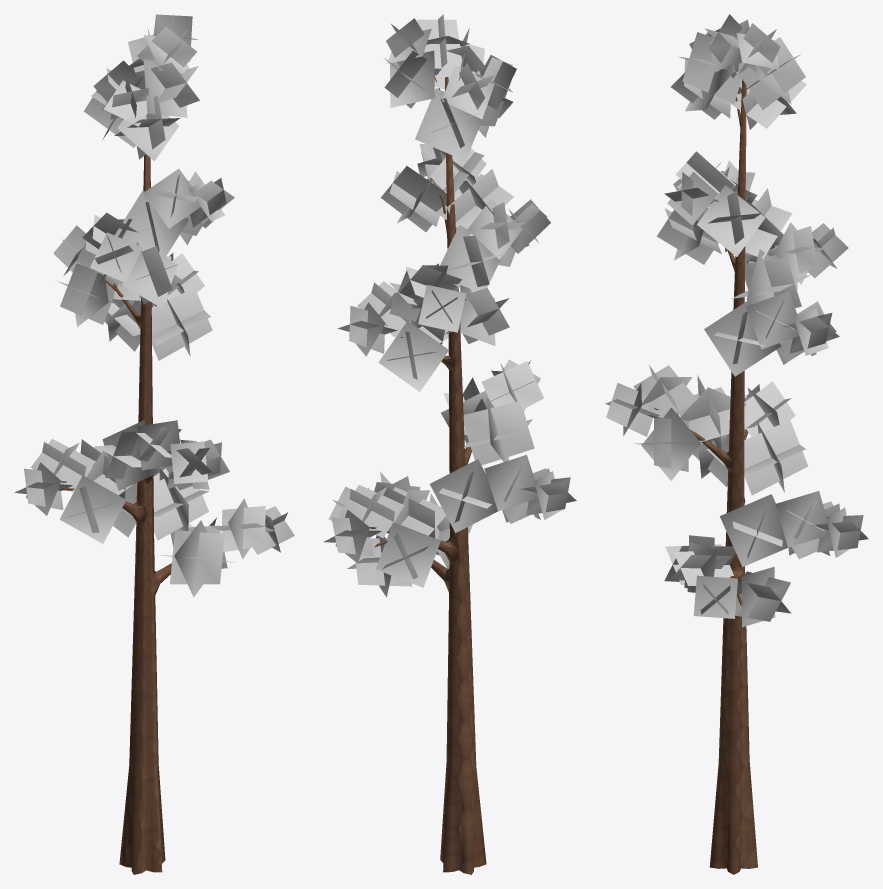
File: SM_Tree_03.fbx
3 renders of one model, left to right at view 1: azimuth 30°, elevation 25°; view 2: azimuth 150°, elevation 25°; view 3: azimuth 270°, elevation 25°, orthographic. The views are drawn at different scales.
Visible parts, largest first — view 1: SM_Tree_03; view 2: SM_Tree_03; view 3: SM_Tree_03.
Part boxes in pixels (left/top/right/bottom): SM_Tree_03: left=14, top=14, right=294, bottom=874; SM_Tree_03: left=323, top=14, right=576, bottom=874; SM_Tree_03: left=605, top=14, right=868, bottom=874.
Bounding box in the file's own units: 536 × 1702 × 473.
